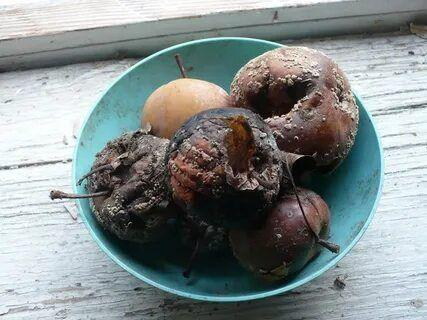Apple: (233, 48, 362, 184), (168, 107, 283, 228), (89, 132, 176, 244)
